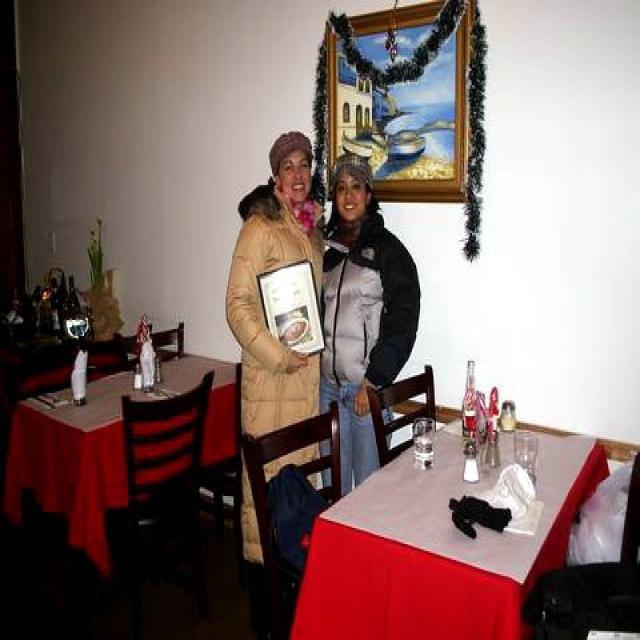chair: (235, 402, 342, 594), (120, 370, 215, 524), (368, 365, 436, 471), (115, 320, 187, 366)
diningtable: (290, 412, 610, 638), (4, 348, 241, 582)
